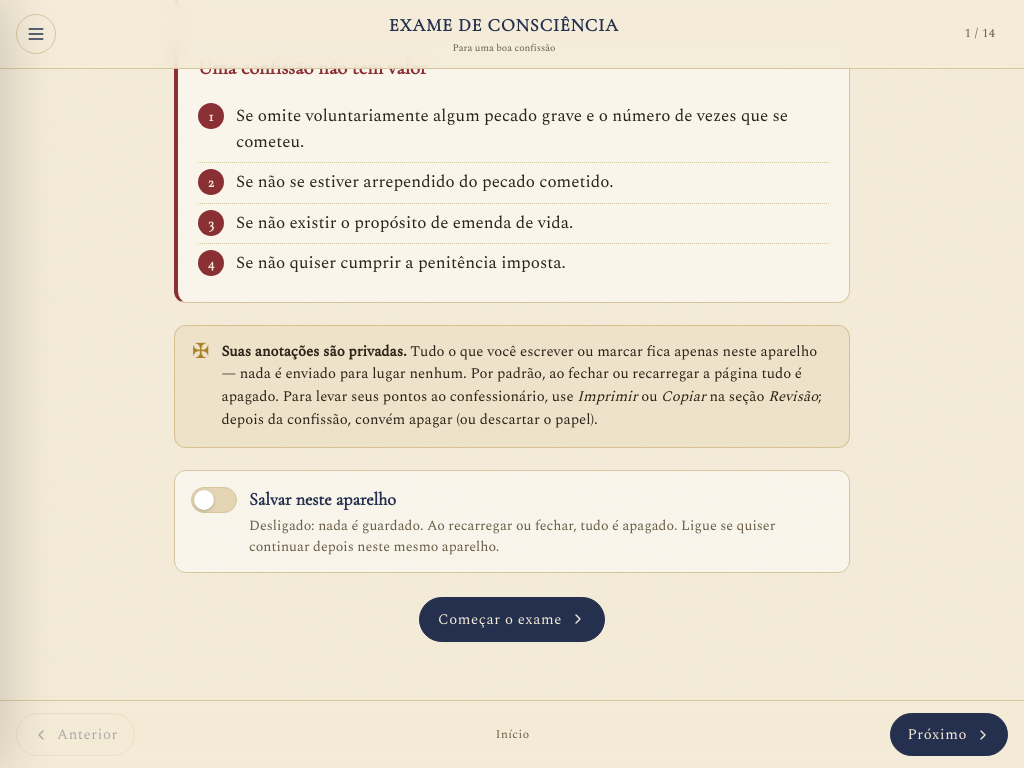
it: App › avança da introdução para a Oração Inicial
(page scrolled)
Click the button "Começar o exame" at point(512, 619), box [419,597,605,642]
(page scrolled)
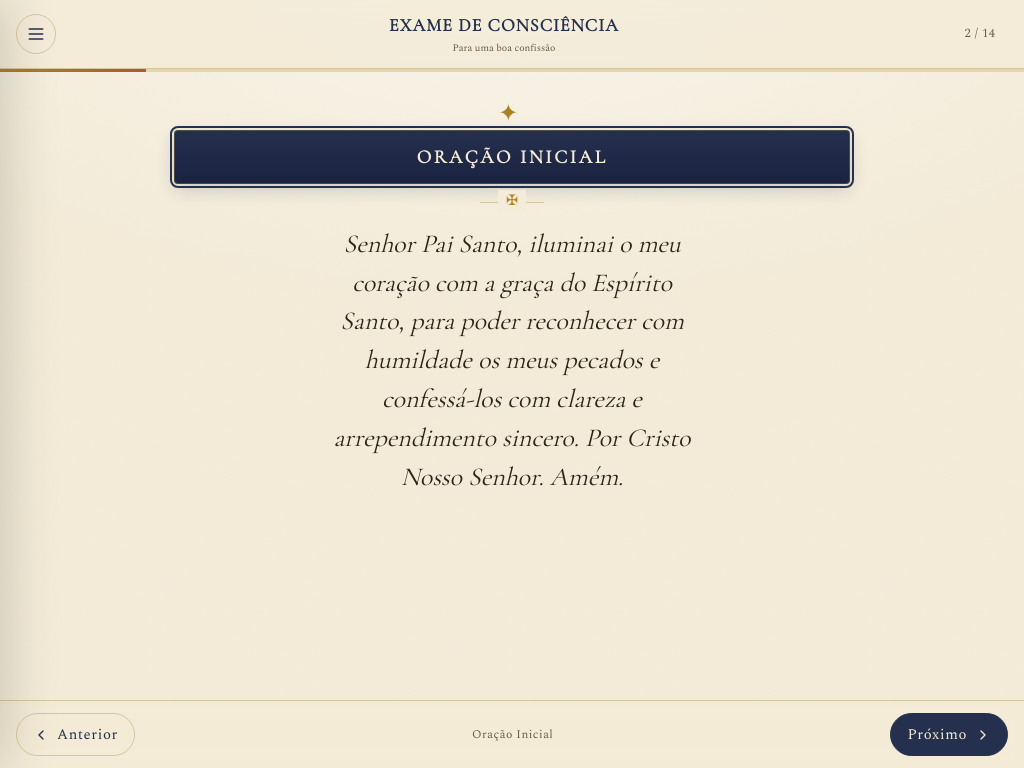
Now the heading "Oração Inicial" is shown, box [174,130,850,184]
